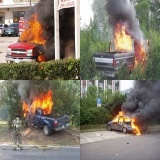fire: (20, 14, 51, 44), (22, 88, 54, 117), (112, 23, 134, 53), (132, 39, 150, 71), (128, 115, 143, 136), (112, 109, 127, 123), (36, 48, 48, 63)
